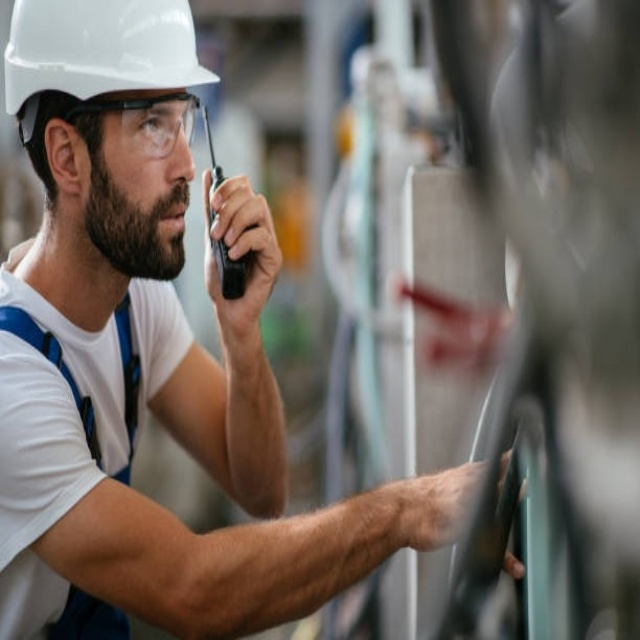Gafas: (61, 91, 202, 155)
Sin_guantes: (392, 436, 530, 580), (201, 163, 280, 329)
Sin_mascara: (139, 182, 192, 282)
